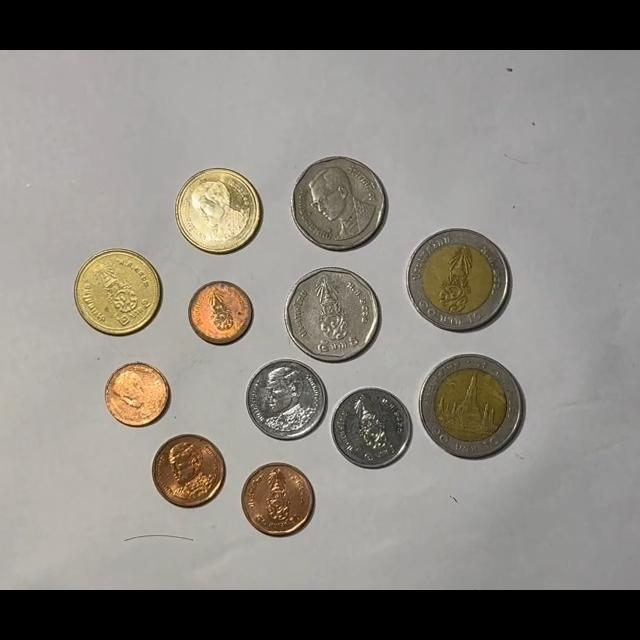1-baht: (331, 387, 413, 469), (246, 359, 326, 441)
10-baht: (419, 354, 525, 459), (405, 228, 510, 331)
2-baht: (74, 248, 161, 336), (175, 167, 262, 255)
25-satang: (105, 362, 171, 428), (188, 280, 253, 345)
5-baht: (284, 267, 380, 363), (291, 156, 388, 250)
50-satang: (241, 463, 314, 537), (152, 434, 226, 507)
